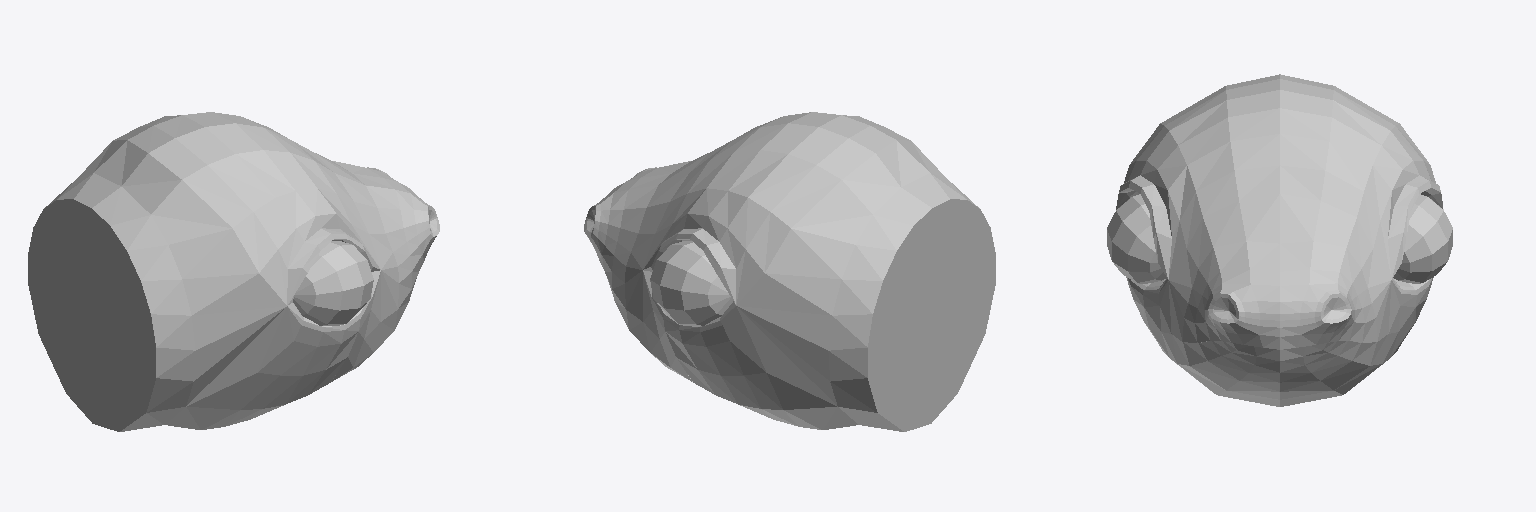
Rendered from SnekHeadOrangeLP.obj.
3 renders of one model, left to right at view 1: azimuth 30°, elevation 25°; view 2: azimuth 150°, elevation 25°; view 3: azimuth 270°, elevation 25°, orthographic.
Visible parts, largest first — view 1: Kopp, EyeRight, Unterkiefer; view 2: Kopp, EyeLeft, Unterkiefer; view 3: Kopp, Unterkiefer, EyeRight, EyeLeft.
Part boxes in pixels (left/top/right/bottom): Kopp: left=28, top=112, right=439, bottom=431; EyeRight: left=293, top=241, right=373, bottom=325; Unterkiefer: left=331, top=278, right=416, bottom=381; Kopp: left=584, top=112, right=995, bottom=431; EyeLeft: left=650, top=241, right=732, bottom=325; Unterkiefer: left=607, top=278, right=692, bottom=381; Kopp: left=1116, top=74, right=1443, bottom=349; Unterkiefer: left=1150, top=329, right=1409, bottom=406; EyeRight: left=1107, top=194, right=1166, bottom=283; EyeLeft: left=1393, top=194, right=1452, bottom=283.
Bounding box in the file's own units: 0.5511 × 0.4539 × 0.5037.